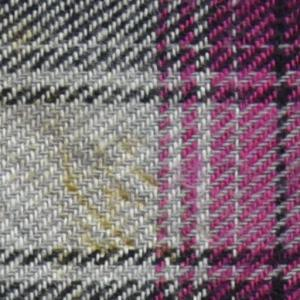Oil Stain: (8, 97, 189, 284)
Stain: (3, 20, 43, 59)
